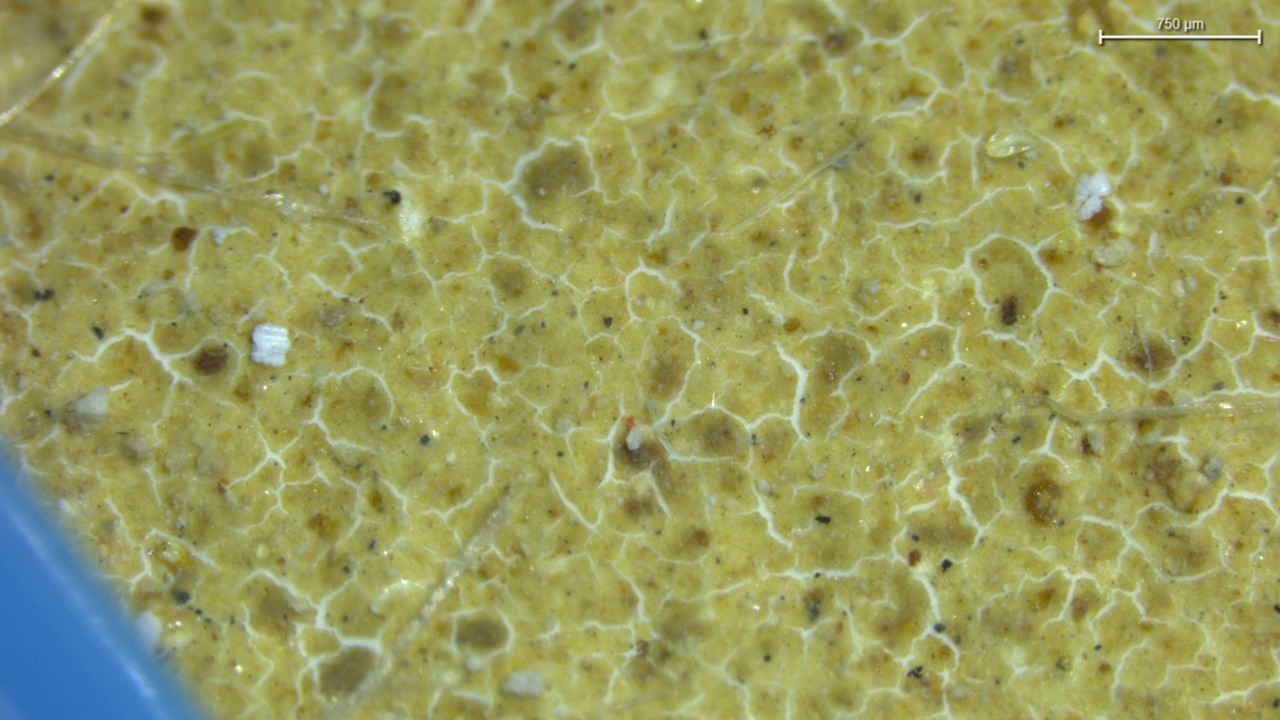microplastic_fragment: (1074, 172, 1112, 220), (251, 322, 290, 367)
